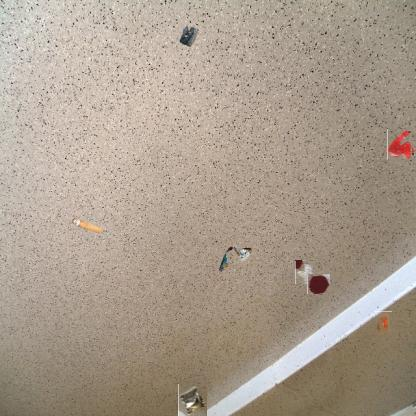dirty: (178, 384, 207, 416), (176, 24, 202, 50), (71, 216, 103, 236), (232, 241, 256, 263), (295, 260, 316, 284), (218, 243, 234, 273), (374, 311, 392, 336)
liquid: (386, 130, 414, 159), (307, 274, 330, 294)
